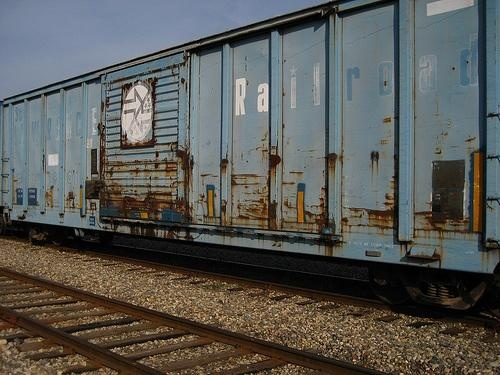train: (2, 3, 500, 315)
